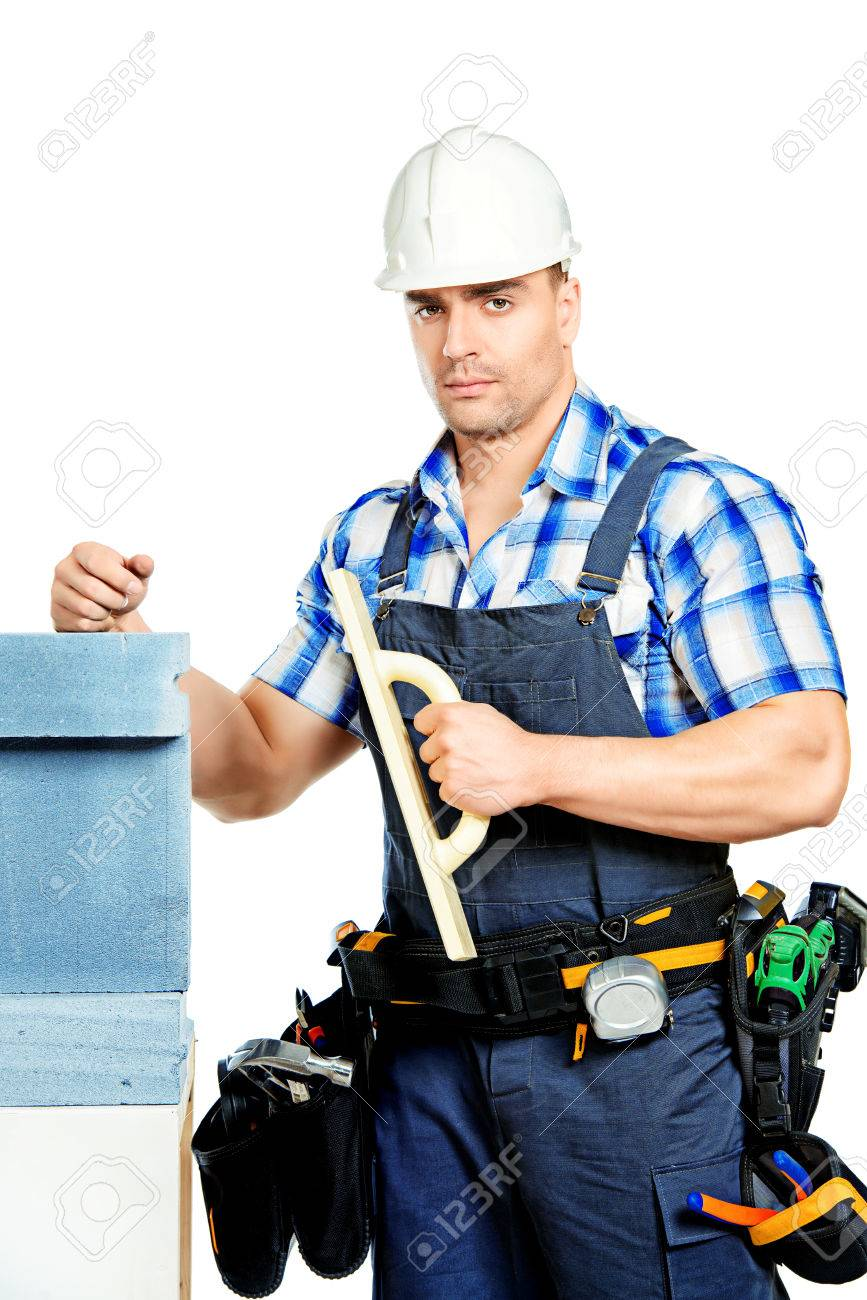casco: (369, 123, 588, 294)
